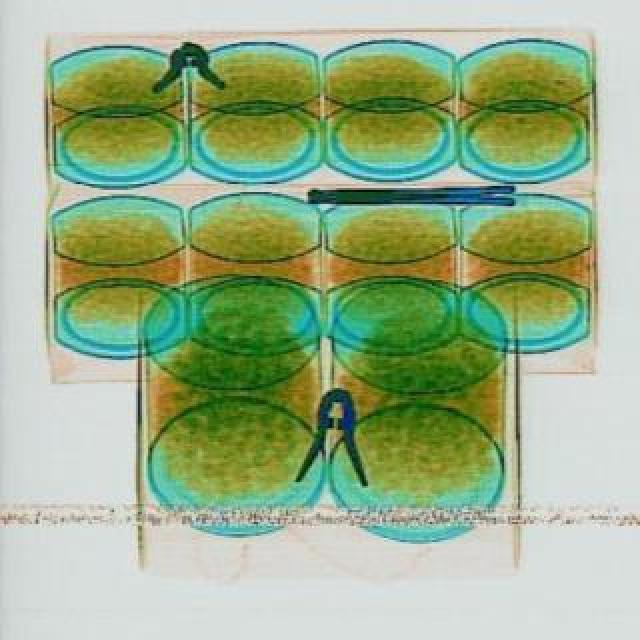wrench: (294, 390, 372, 490), (304, 190, 512, 210)
